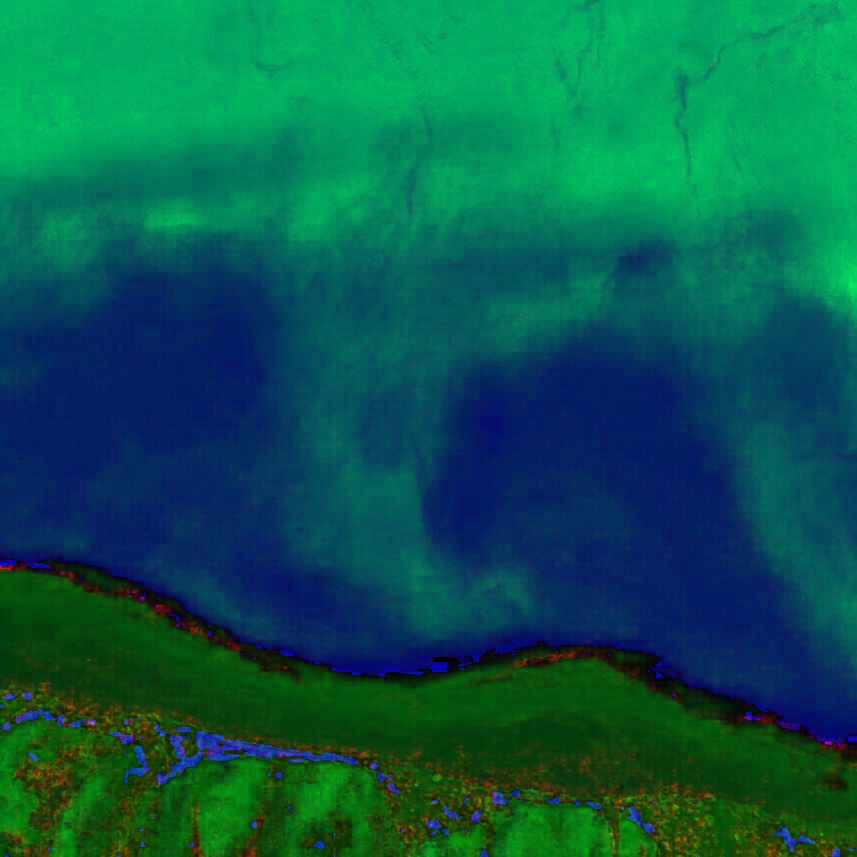rip_current: (216, 158, 550, 608)
